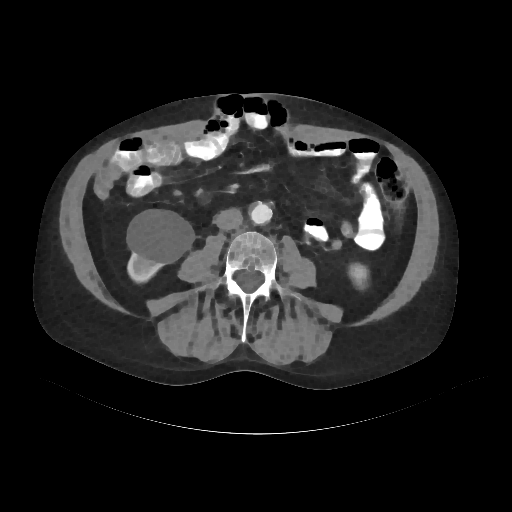Lesion: (128, 208, 195, 266)
